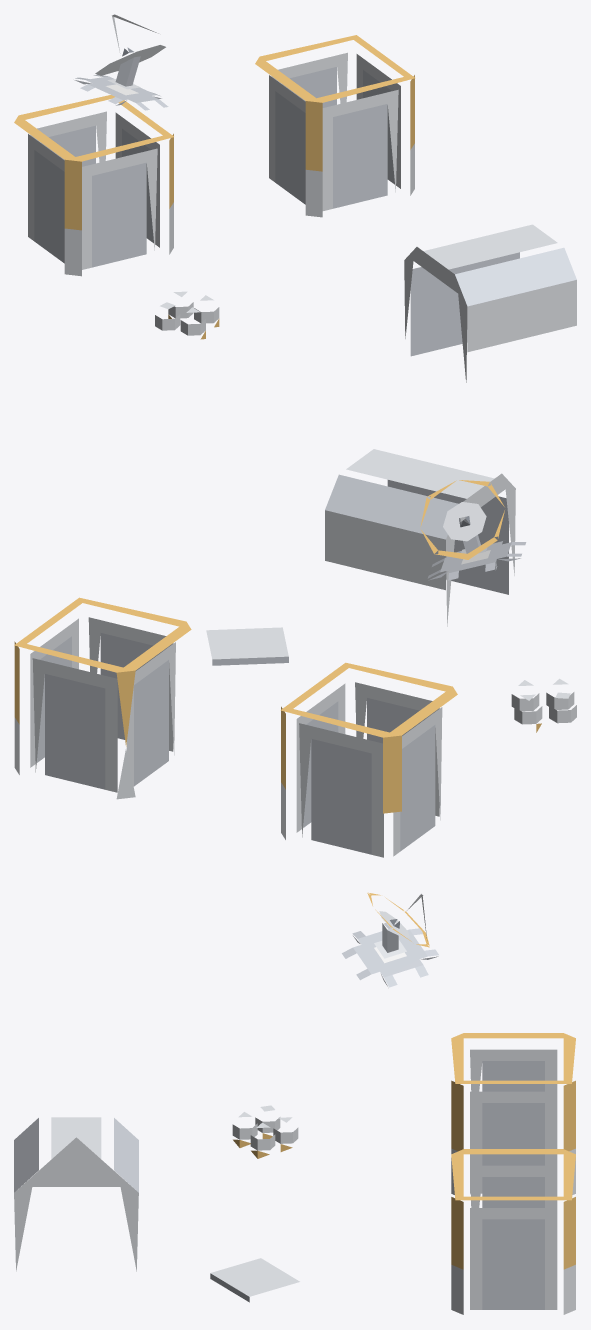
File: poi_abandoned_lab_lod1.glb
The picture shows the model from 3 angles, top to bottom: view 1: azimuth 30°, elevation 25°; view 2: azimuth 150°, elevation 25°; view 3: azimuth 270°, elevation 25°; orthographic projection. The views are drawn at different scales.
Visible parts, largest first — view 1: structure_closed.004, structure_closed.003, corridor.002, satelliteDish_detailed.002; view 2: structure_closed.004, structure_closed.003, corridor.002, satelliteDish_detailed.002, barrels.002; view 3: structure_closed.004, structure_closed.003, corridor.002, satelliteDish_detailed.002, barrels.002.
Part boxes in pixels (box(x1,y1,x2,y2)): structure_closed.004: box(255, 35, 415, 217); structure_closed.003: box(14, 95, 173, 276); corridor.002: box(404, 224, 576, 382); satelliteDish_detailed.002: box(74, 14, 168, 110); structure_closed.004: box(14, 597, 191, 799); structure_closed.003: box(280, 662, 457, 857); corridor.002: box(325, 449, 515, 626); satelliteDish_detailed.002: box(420, 480, 526, 580); barrels.002: box(206, 627, 288, 665); structure_closed.004: box(451, 1149, 575, 1314); structure_closed.003: box(451, 1033, 575, 1194); corridor.002: box(14, 1117, 138, 1271); satelliteDish_detailed.002: box(342, 892, 438, 987); barrels.002: box(210, 1258, 299, 1302).
Size of the model in its own units: 3.41 by 2.35 by 4.51.
